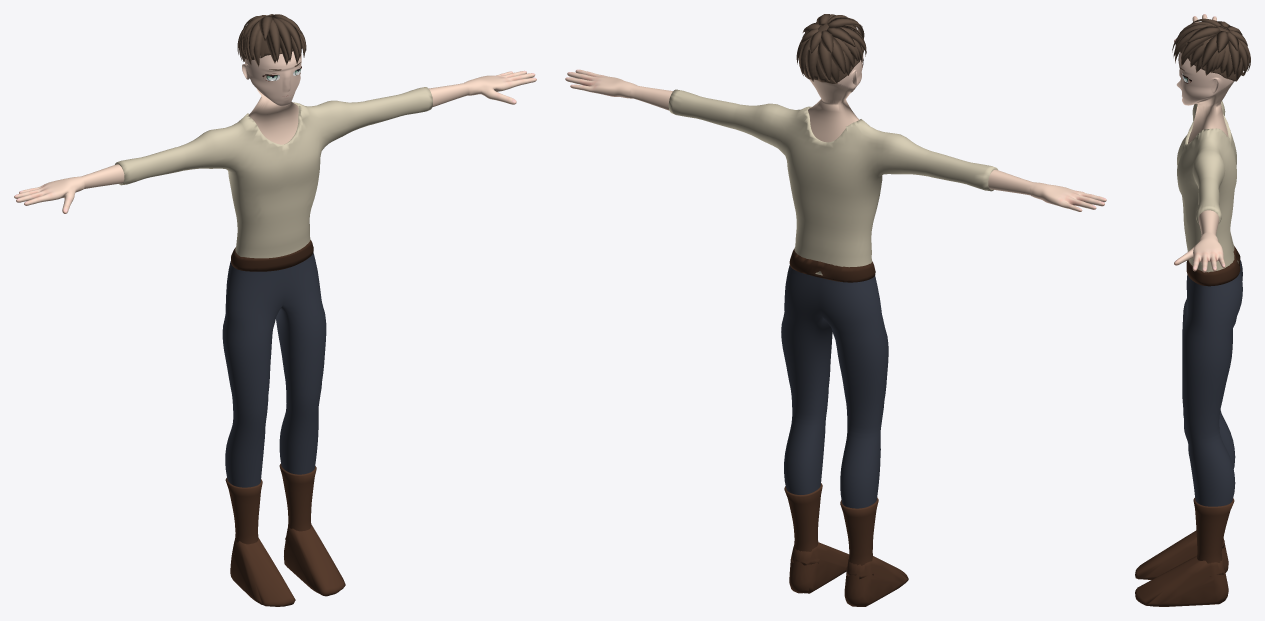
The model's file is adventurer-a006.glb.
3 renders of one model, left to right at view 1: azimuth 30°, elevation 25°; view 2: azimuth 150°, elevation 25°; view 3: azimuth 270°, elevation 25°, orthographic. The views are drawn at different scales.
Visible parts, largest first — view 1: Enosh_Outfit_Trousers, Enosh_Outfit_Shirt, Enosh_Skin, Enosh_Outfit_BootFeet, Enosh_Outfit_Boots, Enosh_Hair_01, Enosh_Outfit_Belt; view 2: Enosh_Outfit_Trousers, Enosh_Outfit_Shirt, Enosh_Skin, Enosh_Outfit_BootFeet, Enosh_Hair_01, Enosh_Outfit_Boots, Enosh_Outfit_Belt; view 3: Enosh_Outfit_Trousers, Enosh_Outfit_Shirt, Enosh_Outfit_BootFeet, Enosh_Skin, Enosh_Hair_01, Enosh_Outfit_Boots, Enosh_Outfit_Belt.
Boxes of the visible parts, bbox=[...] form: Enosh_Outfit_Trousers: bbox=[222, 252, 326, 487]; Enosh_Outfit_Shirt: bbox=[115, 87, 432, 258]; Enosh_Skin: bbox=[14, 51, 536, 213]; Enosh_Outfit_BootFeet: bbox=[230, 524, 345, 606]; Enosh_Outfit_Boots: bbox=[225, 463, 316, 554]; Enosh_Hair_01: bbox=[237, 14, 306, 66]; Enosh_Outfit_Belt: bbox=[231, 240, 313, 271]; Enosh_Outfit_Trousers: bbox=[781, 265, 888, 508]; Enosh_Outfit_Shirt: bbox=[668, 89, 997, 275]; Enosh_Skin: bbox=[565, 54, 1106, 211]; Enosh_Outfit_BootFeet: bbox=[789, 542, 908, 606]; Enosh_Hair_01: bbox=[796, 14, 866, 83]; Enosh_Outfit_Boots: bbox=[784, 483, 878, 579]; Enosh_Outfit_Belt: bbox=[789, 248, 875, 282]; Enosh_Outfit_Trousers: bbox=[1182, 260, 1242, 506]; Enosh_Outfit_Shirt: bbox=[1177, 101, 1238, 272]; Enosh_Outfit_BootFeet: bbox=[1135, 530, 1228, 606]; Enosh_Skin: bbox=[1174, 14, 1234, 272]; Enosh_Hair_01: bbox=[1172, 18, 1250, 81]; Enosh_Outfit_Boots: bbox=[1193, 498, 1234, 576]; Enosh_Outfit_Belt: bbox=[1186, 246, 1240, 286].
Bounding box in the file's own units: 1.72 × 1.76 × 0.3284.
Materials: 21 (14 with a texture image).
